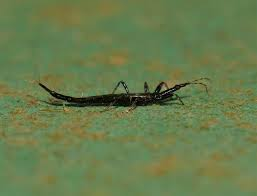Phlaeothripidae: (38, 75, 209, 108)
